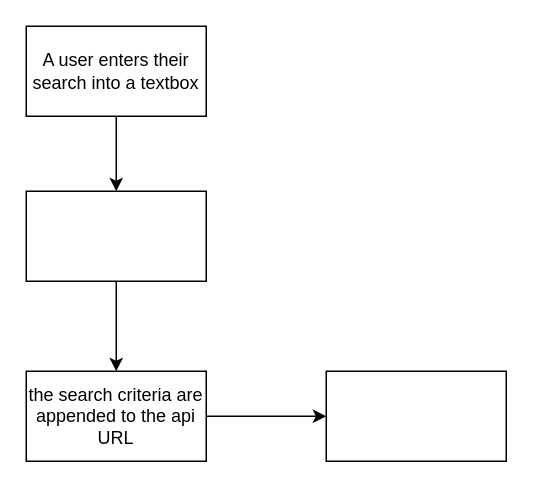
This 533x488 diagram has some shape labels left out. The shapes that lost their labels are listed below. From the top down, each one's box as (x1, y1, x2, y2) in pixels, then its label:
(25, 190, 206, 281): The user clicks enter
(325, 370, 506, 461): That API url runs and returns an array of objects
